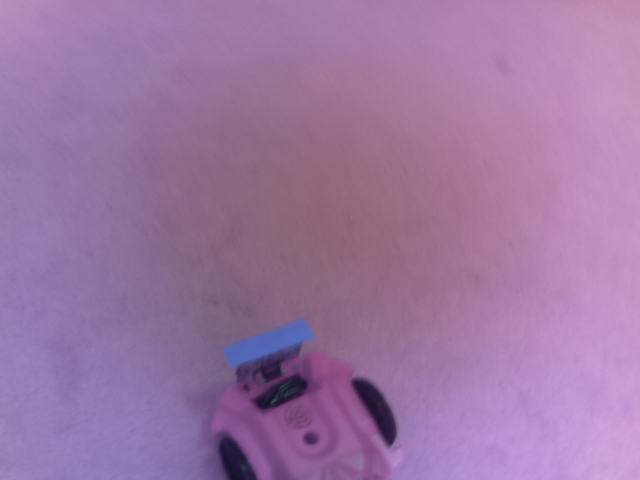board: (221, 314, 324, 370)
chassis: (205, 305, 413, 480)
